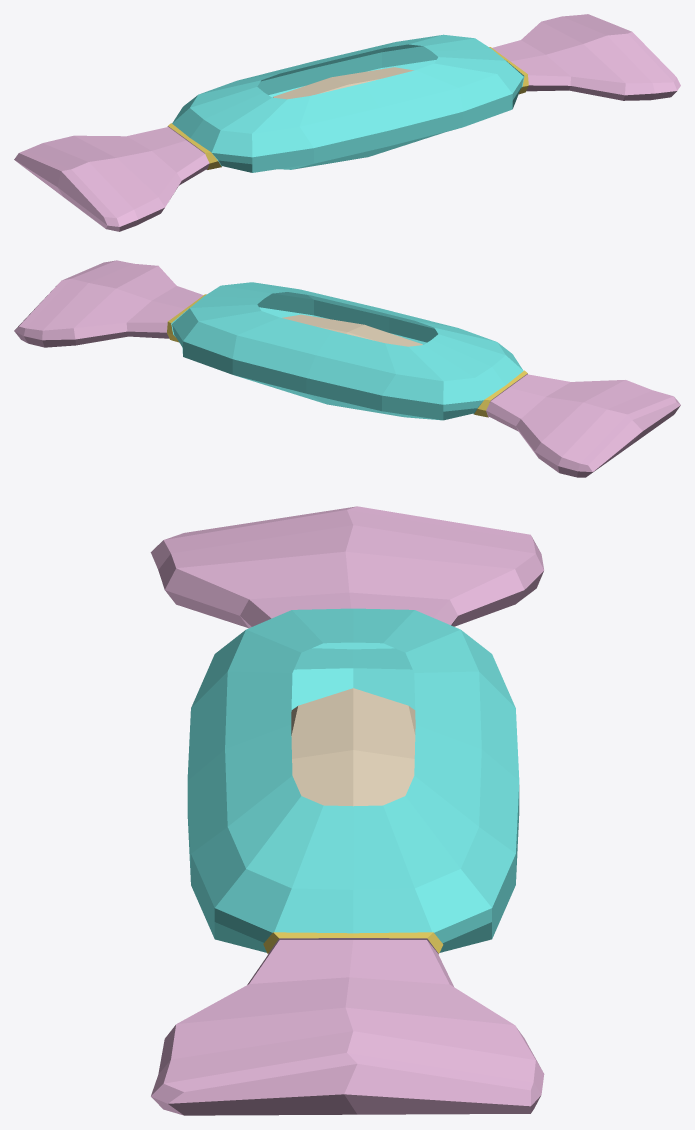
Rendered from LampaCukierek.fbx.
3 views of the same model, one above another, from view 1: azimuth 30°, elevation 25°; view 2: azimuth 150°, elevation 25°; view 3: azimuth 270°, elevation 25° (orthographic). The views are drawn at different scales.
Visible parts, largest first — view 1: LampaCukierek; view 2: LampaCukierek; view 3: LampaCukierek.
Boxes of the visible parts, x1,y1,x2,y2 form: LampaCukierek: [14, 14, 680, 231]; LampaCukierek: [14, 260, 680, 477]; LampaCukierek: [150, 506, 544, 1115].
Size of the model in its own units: 101 by 13.25 by 29.4.
